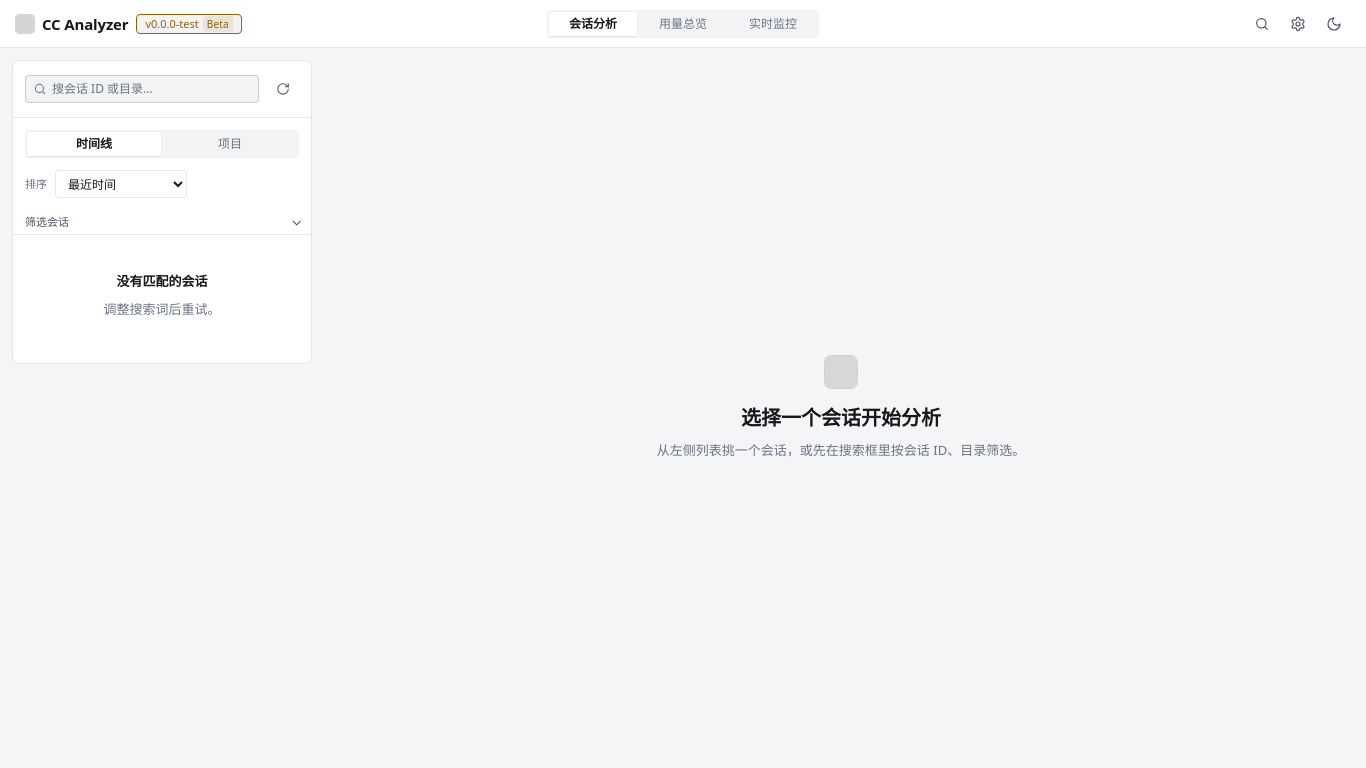
Test case: switches to the usage overview tab and persists the choice
The width and height of the screenshot is (1366, 768).
Step 1. Click the tab "用量总览" → (683, 24), box 639,12 -> 727,36
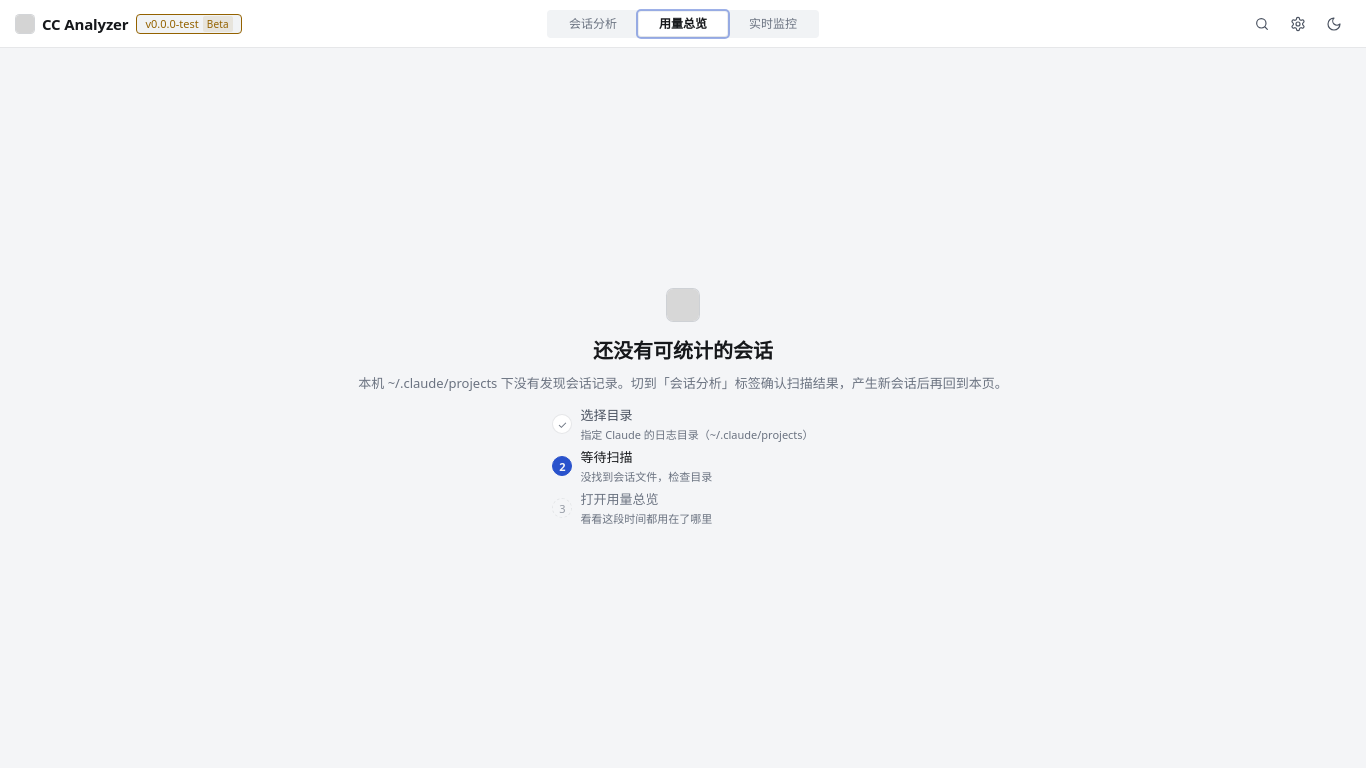
Result: the text "还没有可统计的会话" is shown at 593,337 -> 773,365
